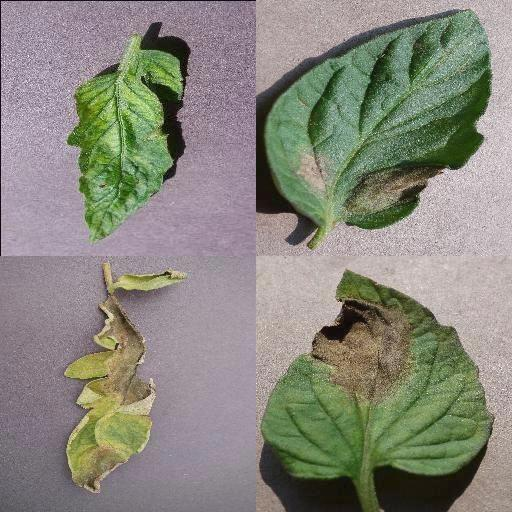Late Blight: (266, 7, 492, 231), (260, 268, 496, 478), (63, 293, 157, 495), (117, 265, 187, 293)
Mosaic Virus: (65, 45, 186, 245)
